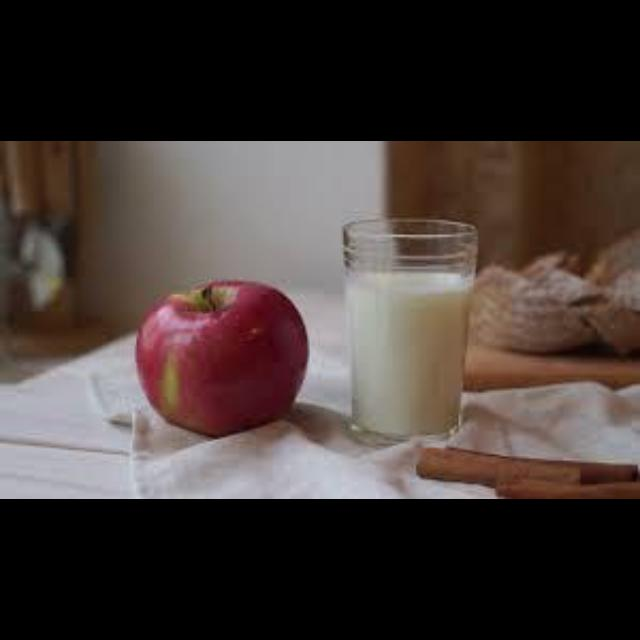apple: (137, 280, 307, 435)
